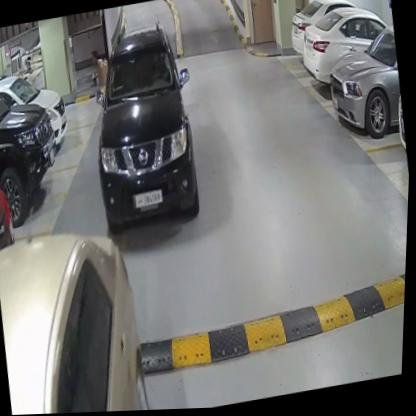np: (132, 190, 165, 211)
